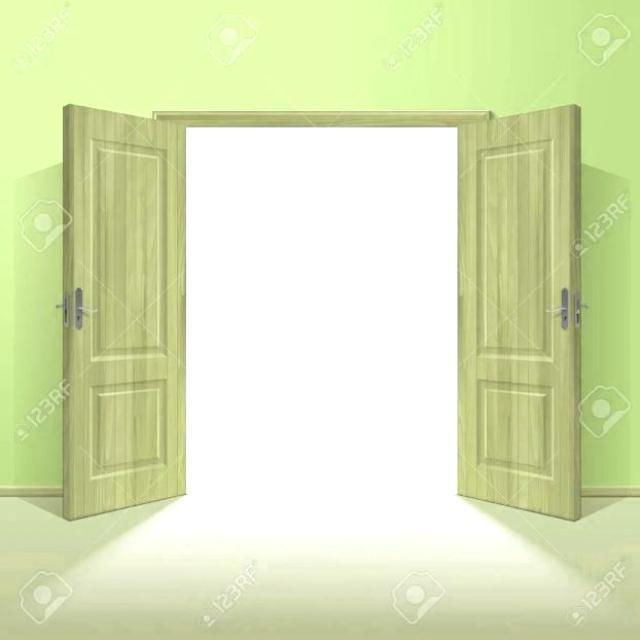door: (60, 102, 186, 520), (456, 103, 582, 521)
